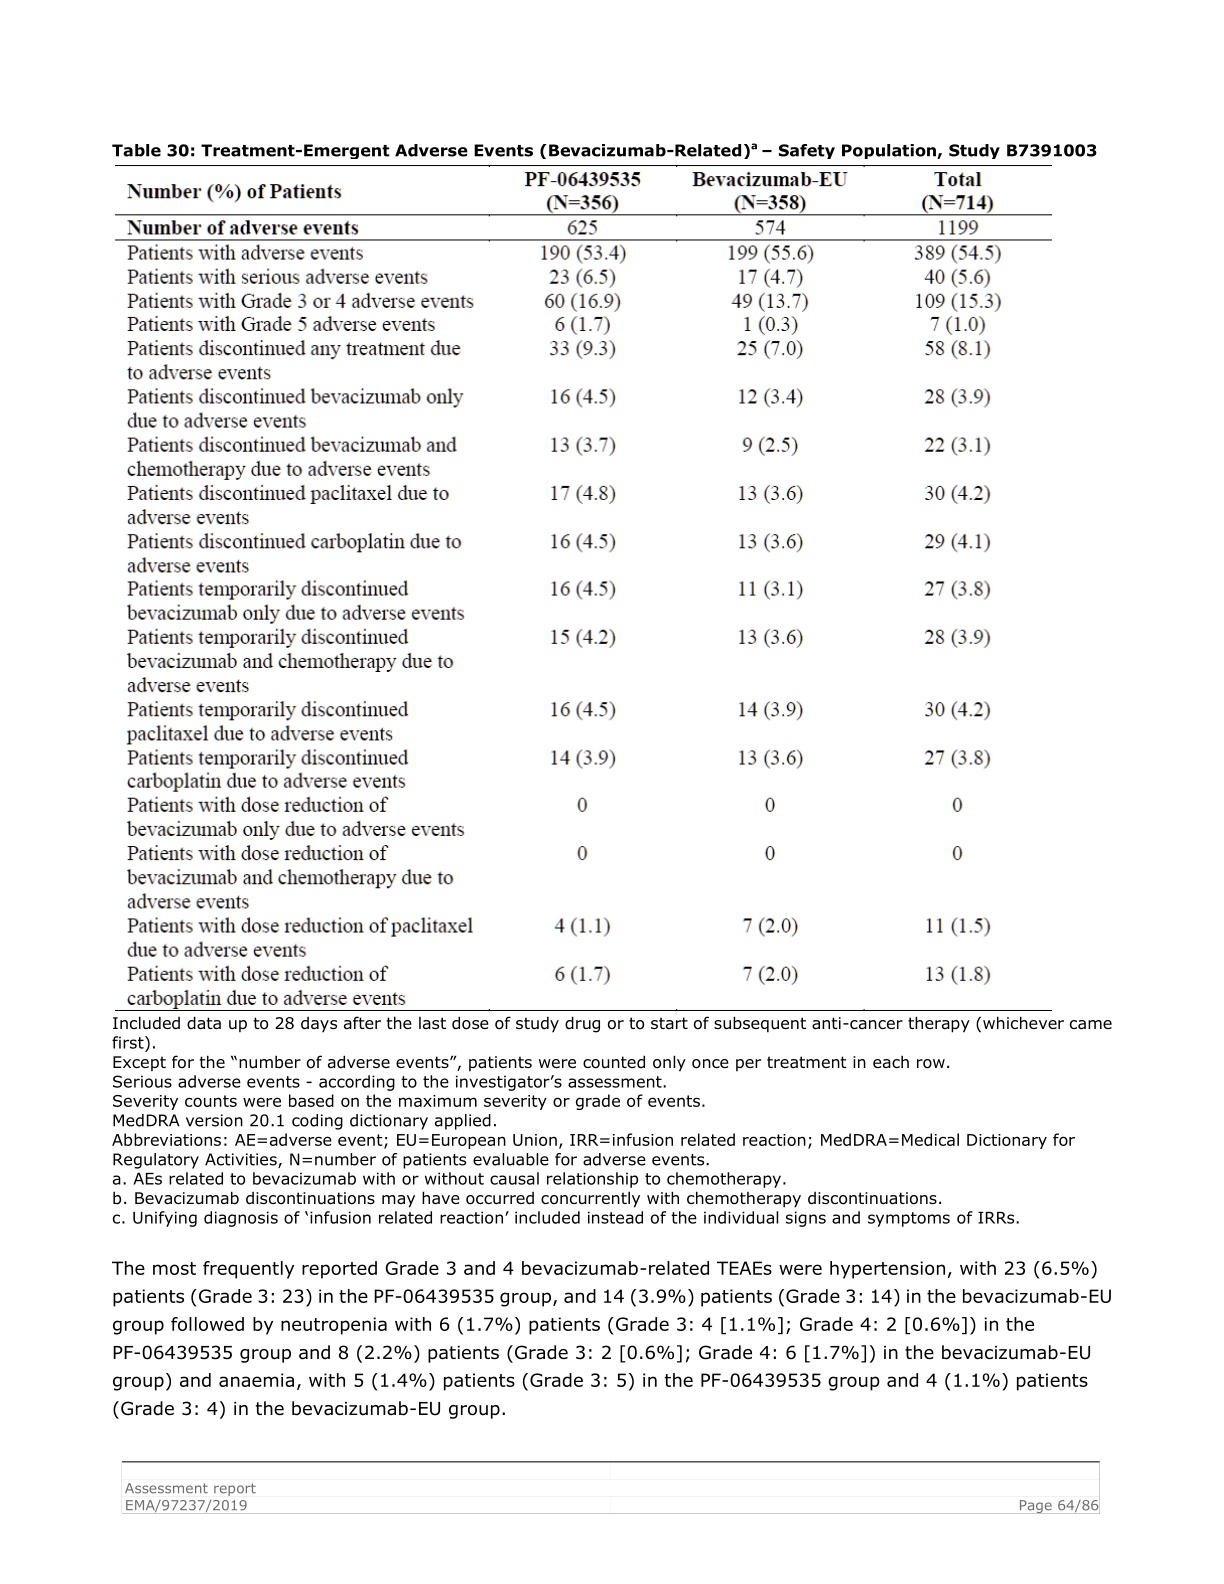partial_lined: (113, 163, 1050, 1013)
